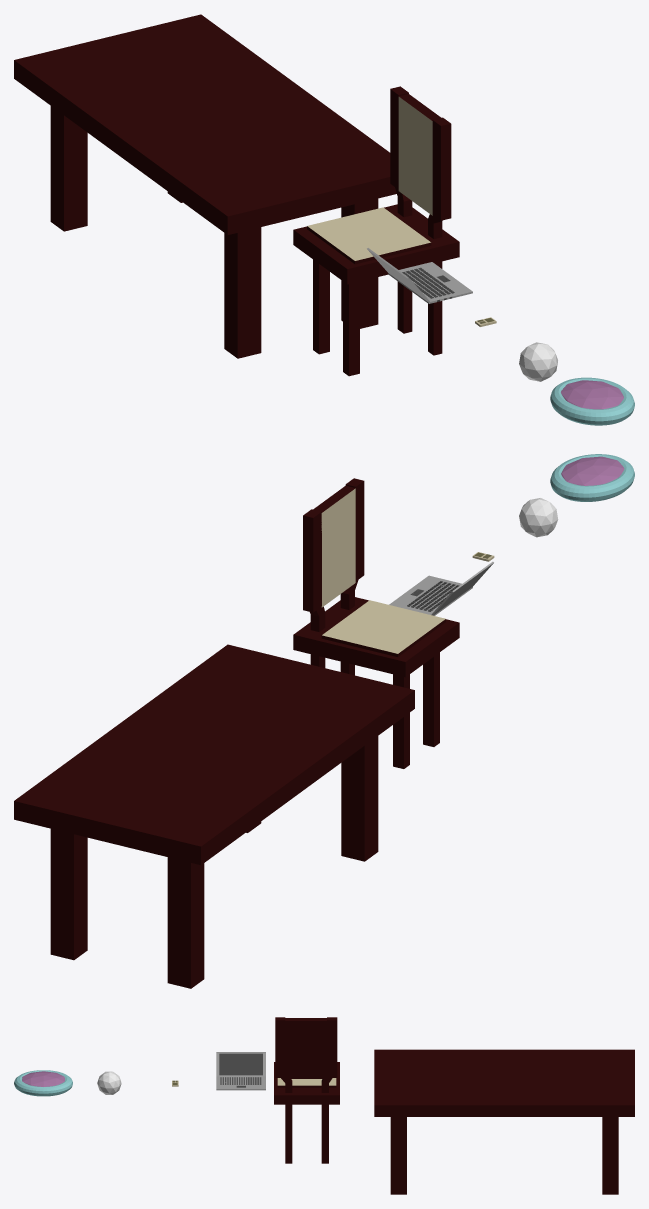
Rendered from dekorasyon.fbx.
3 renders of one model, top to bottom at view 1: azimuth 30°, elevation 25°; view 2: azimuth 150°, elevation 25°; view 3: azimuth 270°, elevation 25°, orthographic. The views are drawn at different scales.
Parts seen in each view (by area): view 1: Cube, Cube.001, Torus, Cube.002, Icosphere; view 2: Cube, Cube.001, Torus, Cube.002, Icosphere; view 3: Cube, Cube.001, Cube.002, Torus, Icosphere.
Part boxes in pixels (x1,y1,x2,y2): Cube: (14,14,396,358); Cube.001: (293,86,459,376); Torus: (550,377,634,425); Cube.002: (367,248,472,303); Icosphere: (519,342,557,381); Cube: (14,644,414,988); Cube.001: (293,478,459,768); Torus: (550,454,634,501); Cube.002: (389,561,493,615); Icosphere: (519,498,558,537); Cube: (374,1049,634,1194); Cube.001: (274,1017,339,1163); Cube.002: (216,1052,265,1090); Torus: (14,1070,72,1096); Icosphere: (97,1071,121,1094).
Size of the model in its own units: 200 by 281 by 943.
